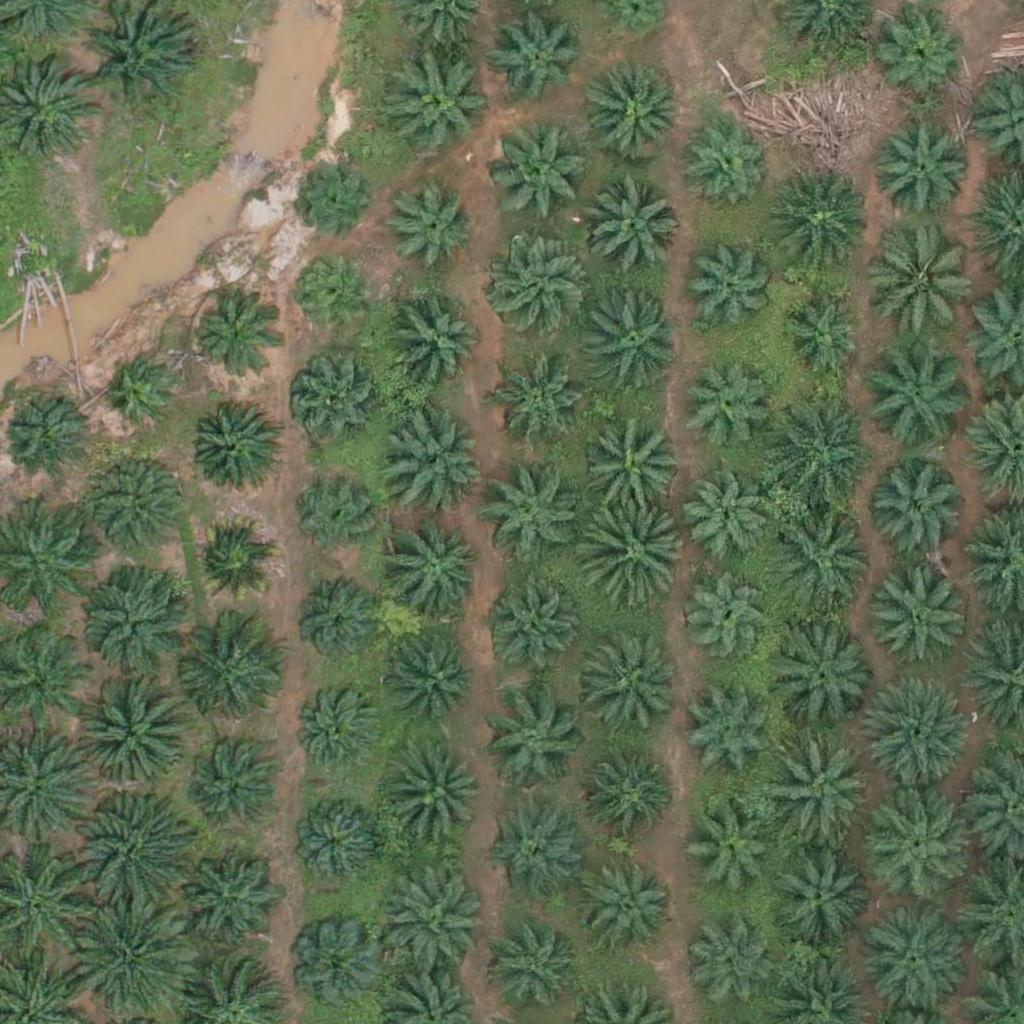Kelapa_Sawit: (859, 343, 972, 456), (861, 678, 974, 791), (767, 740, 880, 853), (765, 498, 878, 611), (766, 398, 879, 511), (79, 902, 192, 1015), (79, 791, 192, 904), (78, 673, 191, 786), (79, 558, 192, 671), (576, 497, 688, 611), (380, 863, 492, 977), (860, 907, 972, 1020), (175, 617, 287, 730), (869, 227, 981, 340), (864, 461, 964, 562), (872, 565, 972, 666), (868, 802, 968, 903), (764, 846, 864, 947), (775, 629, 875, 730), (574, 854, 674, 955), (587, 421, 687, 522), (479, 469, 579, 570), (481, 579, 581, 680), (386, 515, 486, 616), (286, 915, 386, 1016), (178, 855, 278, 956), (875, 119, 975, 220), (487, 235, 587, 336), (379, 176, 479, 277), (575, 632, 675, 732), (484, 689, 584, 789), (484, 813, 584, 913), (385, 296, 485, 396), (388, 412, 488, 512), (389, 749, 489, 849), (287, 794, 387, 894), (87, 450, 187, 550), (769, 173, 869, 273), (583, 62, 683, 162), (583, 175, 683, 275), (582, 290, 682, 390), (491, 120, 591, 220), (386, 56, 486, 156), (678, 365, 766, 453), (682, 477, 770, 565), (687, 803, 775, 891), (692, 923, 780, 1011), (580, 748, 668, 836), (501, 366, 589, 454), (388, 632, 476, 720), (289, 253, 377, 341), (293, 471, 381, 559), (294, 583, 382, 671), (294, 688, 382, 776), (2, 391, 90, 479), (778, 286, 866, 374), (684, 574, 771, 662), (685, 693, 772, 781), (291, 354, 378, 442), (193, 295, 280, 383), (189, 400, 276, 488), (189, 518, 276, 606), (186, 739, 273, 827), (878, 6, 965, 94), (685, 240, 772, 328), (682, 117, 769, 205), (492, 17, 579, 105), (291, 154, 378, 242), (105, 357, 180, 433)
